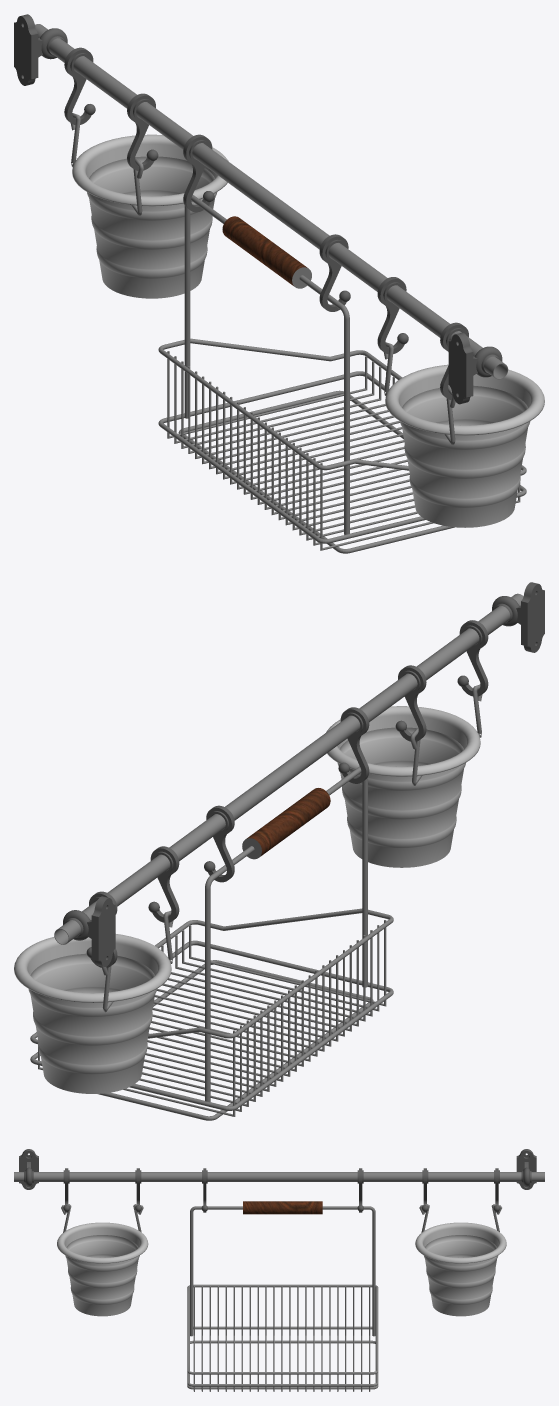
The model's file is hadi9.glb.
3 views of the same model, one above another, from view 1: azimuth 30°, elevation 25°; view 2: azimuth 150°, elevation 25°; view 3: azimuth 270°, elevation 25° (orthographic). The views are drawn at different scales.
Visible parts, largest first — view 1: Group#6 [104803] (×2), Group#1 [105653], Group#17 [103451] (×10), Group#7 [104772] (×5), Group#14 [104789], Group#2 [104758] (×2), Group#16 [104790], Group#15 [104787], Group#18 [104785], Group#11 [104788]; view 2: Group#6 [104803] (×2), Group#1 [105653], Group#17 [103451] (×9), Group#7 [104772] (×5), Group#14 [104789], Group#2 [104758] (×2), Group#16 [104790], Group#15 [104787], Group#18 [104785], Group#11 [104788]; view 3: Group#6 [104803] (×2), Group#1 [105653], Group#16 [104790], Group#14 [104789], Group#11 [104788], Group#15 [104787], Group#18 [104785], Group#2 [104758] (×2).
Part boxes in pixels (box(x1,y1,x2,y2)): Group#6 [104803] (×2): box(72, 134, 544, 527); Group#1 [105653]: box(35, 24, 508, 379); Group#17 [103451] (×10): box(167, 351, 404, 484); Group#7 [104772] (×5): box(64, 47, 406, 354); Group#14 [104789]: box(184, 195, 349, 534); Group#2 [104758] (×2): box(14, 14, 473, 404); Group#16 [104790]: box(158, 338, 526, 475); Group#15 [104787]: box(158, 371, 526, 543); Group#18 [104785]: box(222, 216, 311, 288); Group#11 [104788]: box(178, 390, 454, 553); Group#6 [104803] (×2): box(14, 706, 480, 1093); Group#1 [105653]: box(54, 593, 523, 944); Group#17 [103451] (×9): box(152, 920, 386, 1051); Group#7 [104772] (×5): box(150, 620, 488, 922); Group#14 [104789]: box(205, 766, 367, 1102); Group#2 [104758] (×2): box(91, 582, 544, 966); Group#16 [104790]: box(30, 908, 393, 1044); Group#15 [104787]: box(30, 940, 393, 1110); Group#18 [104785]: box(242, 788, 330, 859); Group#11 [104788]: box(98, 960, 373, 1120); Group#6 [104803] (×2): box(57, 1222, 506, 1316); Group#1 [105653]: box(14, 1172, 544, 1181); Group#16 [104790]: box(187, 1284, 378, 1374); Group#14 [104789]: box(190, 1206, 375, 1336); Group#11 [104788]: box(187, 1340, 378, 1389); Group#15 [104787]: box(187, 1326, 378, 1386); Group#18 [104785]: box(243, 1201, 322, 1214); Group#2 [104758] (×2): box(19, 1149, 536, 1189).
Bounding box in the file's own units: 0.2104 × 0.3117 × 0.8.
4 materials, 1 textured.
